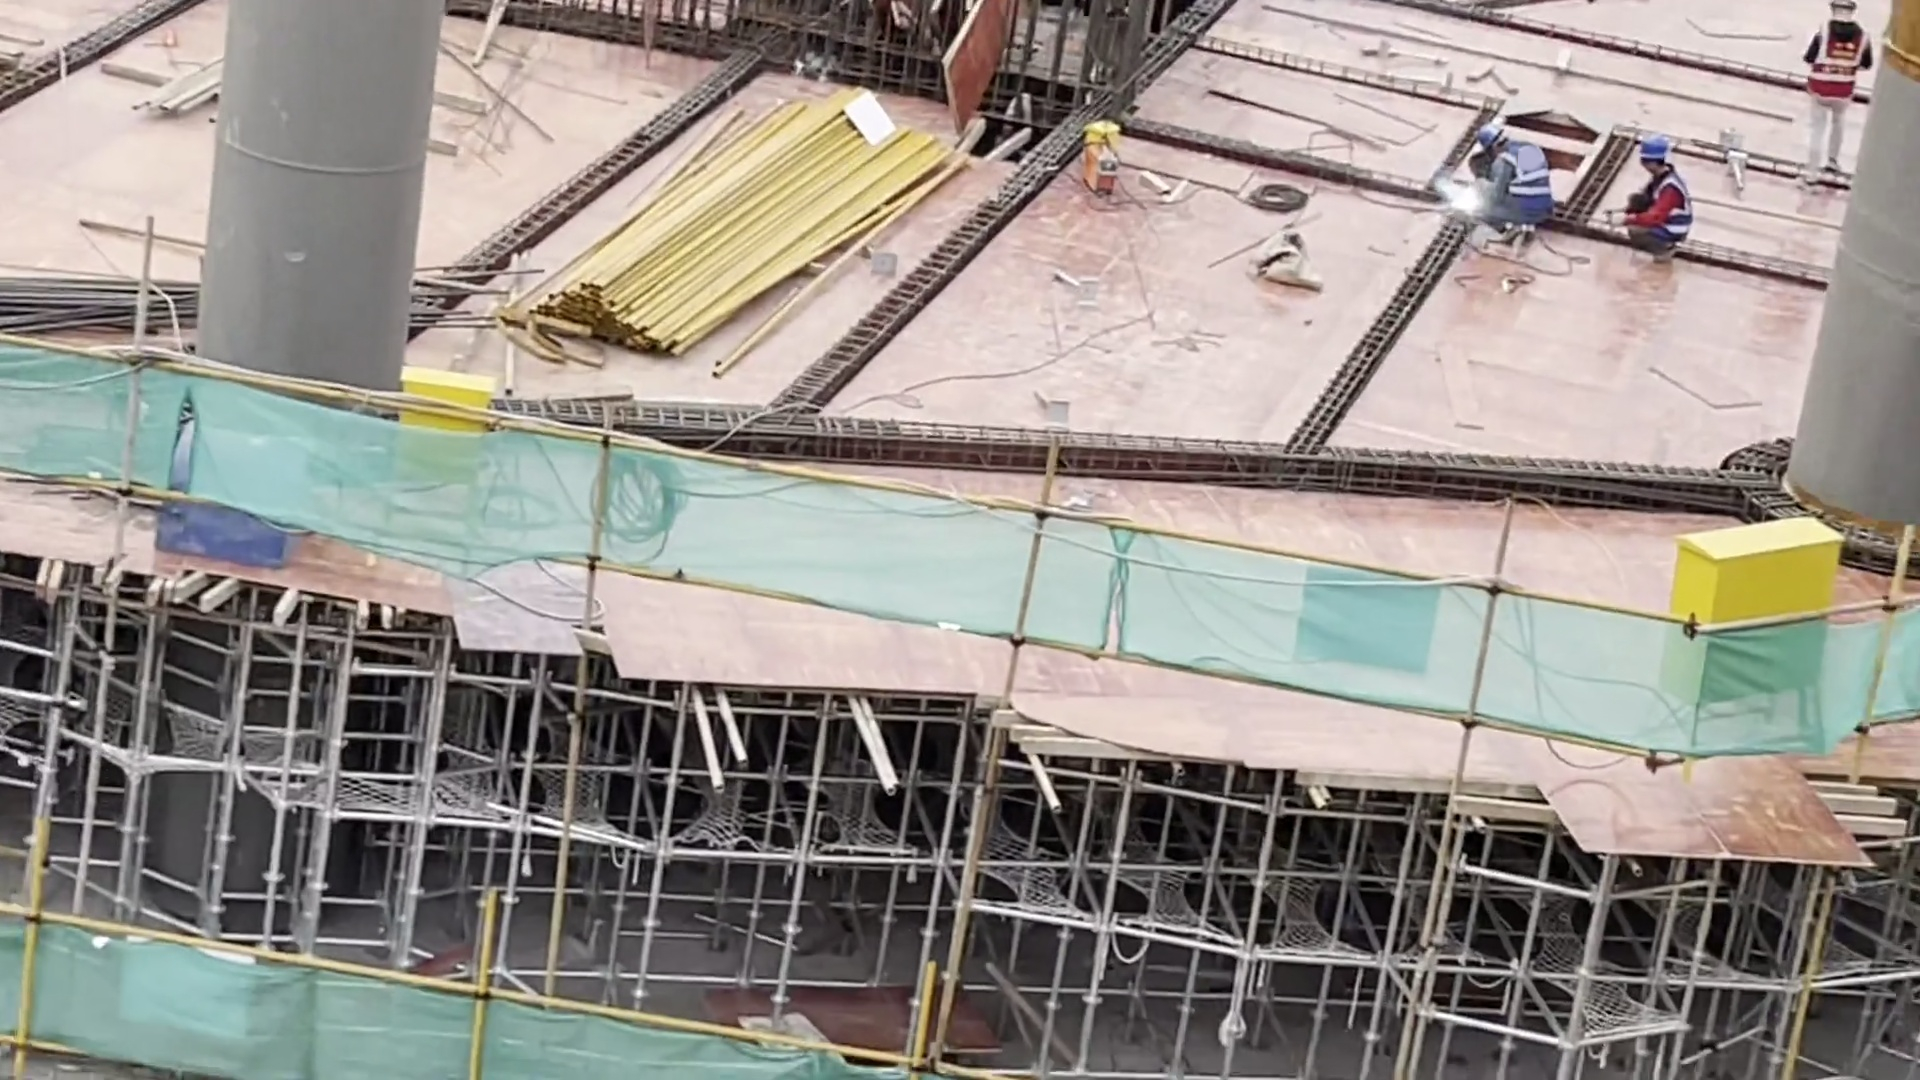helmet: (1476, 121, 1504, 150), (1636, 134, 1669, 159)
person: (1799, 1, 1869, 206), (1611, 137, 1700, 277), (1477, 121, 1558, 252)
vest: (1493, 141, 1556, 224), (1642, 170, 1695, 242)
